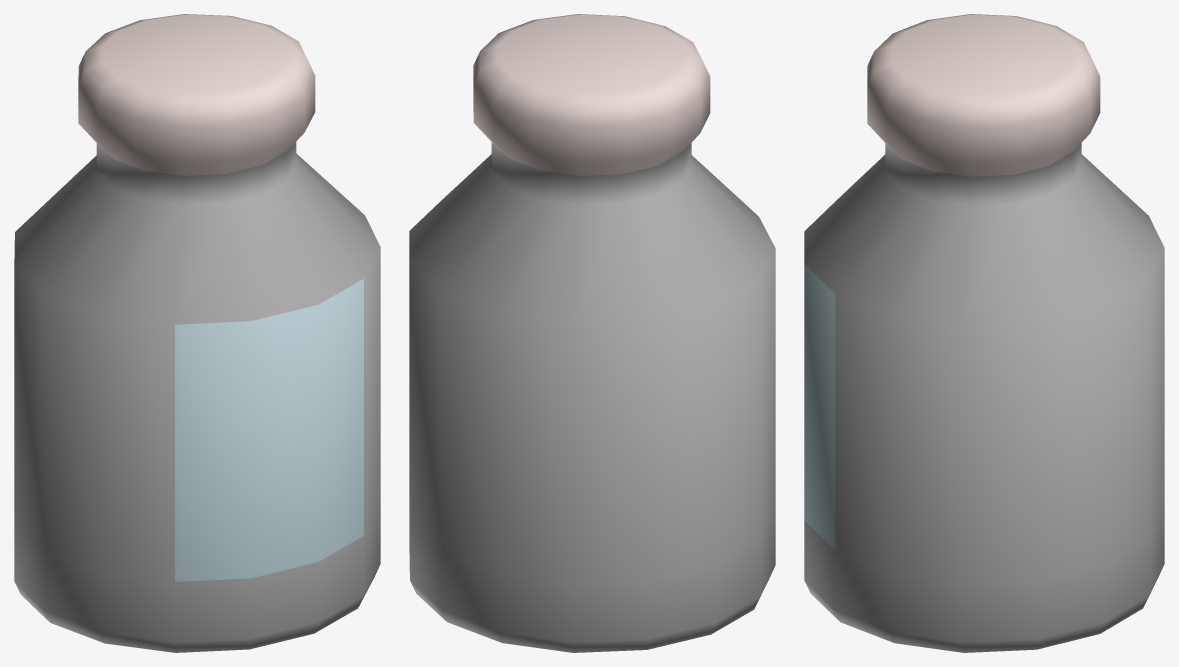
Rendered from Saline Solution.fbx.
3 views of the same model, side by side, from view 1: azimuth 30°, elevation 25°; view 2: azimuth 150°, elevation 25°; view 3: azimuth 270°, elevation 25° (orthographic).
Visible parts, largest first — view 1: Cylinder; view 2: Cylinder; view 3: Cylinder.
Part boxes in pixels (x1,y1,x2,y2): Cylinder: (14,14,380,652); Cylinder: (409,14,775,652); Cylinder: (804,14,1164,652).
Bounding box in the file's own units: 199 × 315 × 194.
